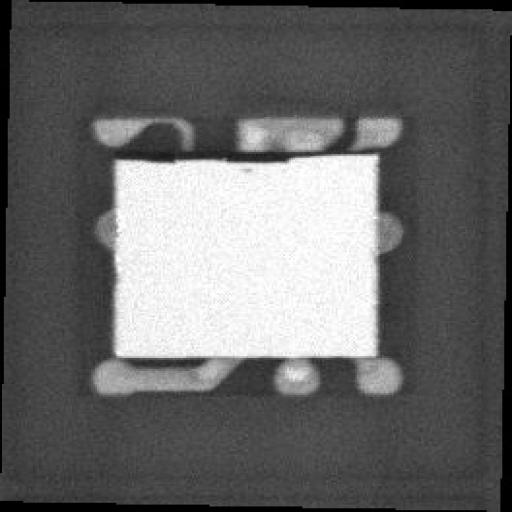DIE_BROKEN: (110, 146, 293, 160)
